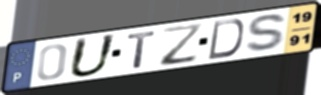0: (35, 43, 69, 81)
D: (206, 17, 245, 61)
S: (244, 13, 290, 54)
T: (126, 29, 159, 70)
U: (66, 33, 119, 79)
Z: (160, 21, 205, 68)
